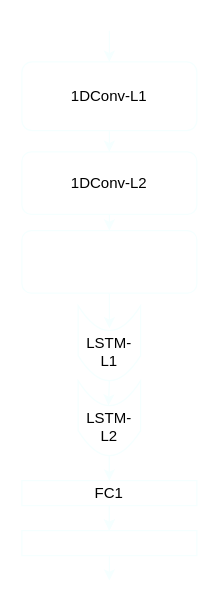
Image size: 219x613. Some labels were removed from this diagram. The centre of each missing label's shape, as x and y in pixels:
"1DConv-L3" belongs at point (109, 261).
"FC2" belongs at point (109, 542).
